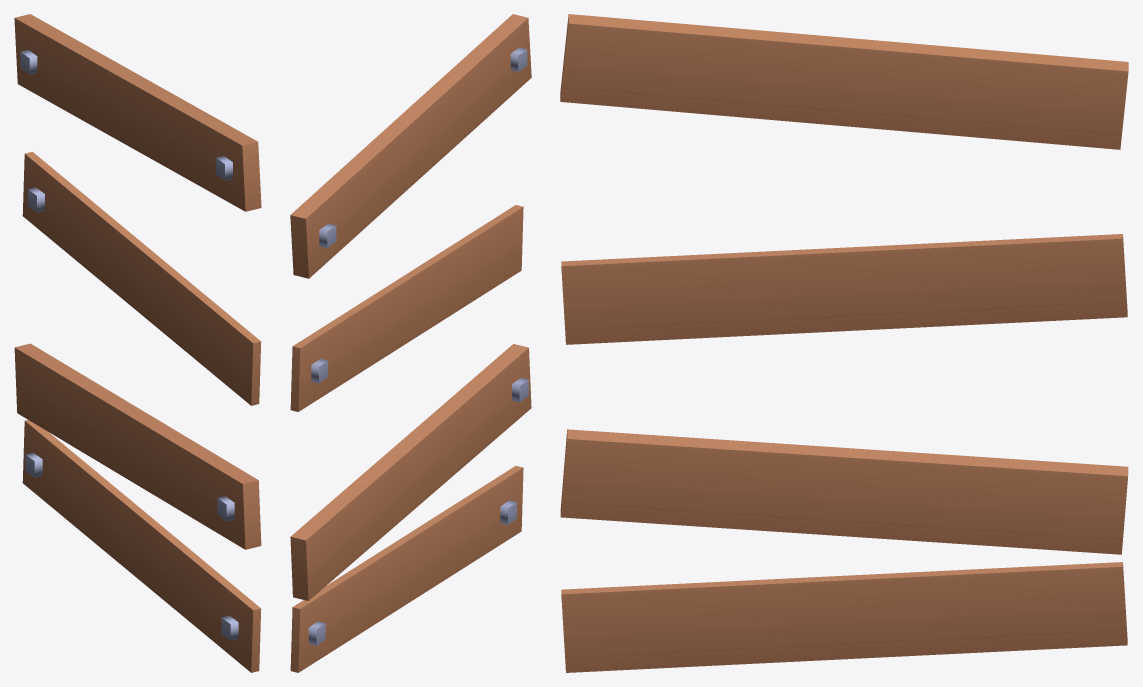
The model's file is barricade-doorway-b.glb.
The picture shows the model from 3 angles, left to right: view 1: azimuth 30°, elevation 25°; view 2: azimuth 150°, elevation 25°; view 3: azimuth 270°, elevation 25°; orthographic projection. The views are drawn at different scales.
Visible parts, largest first — view 1: barricade-doorway-b; view 2: barricade-doorway-b; view 3: barricade-doorway-b.
Part boxes in pixels (box(x1,y1,x2,y2)): barricade-doorway-b: box(14, 14, 261, 672); barricade-doorway-b: box(290, 14, 531, 672); barricade-doorway-b: box(560, 14, 1128, 672).
Size of the model in its own units: 0.075 by 1.58 by 1.26.
1 material, 1 textured.
